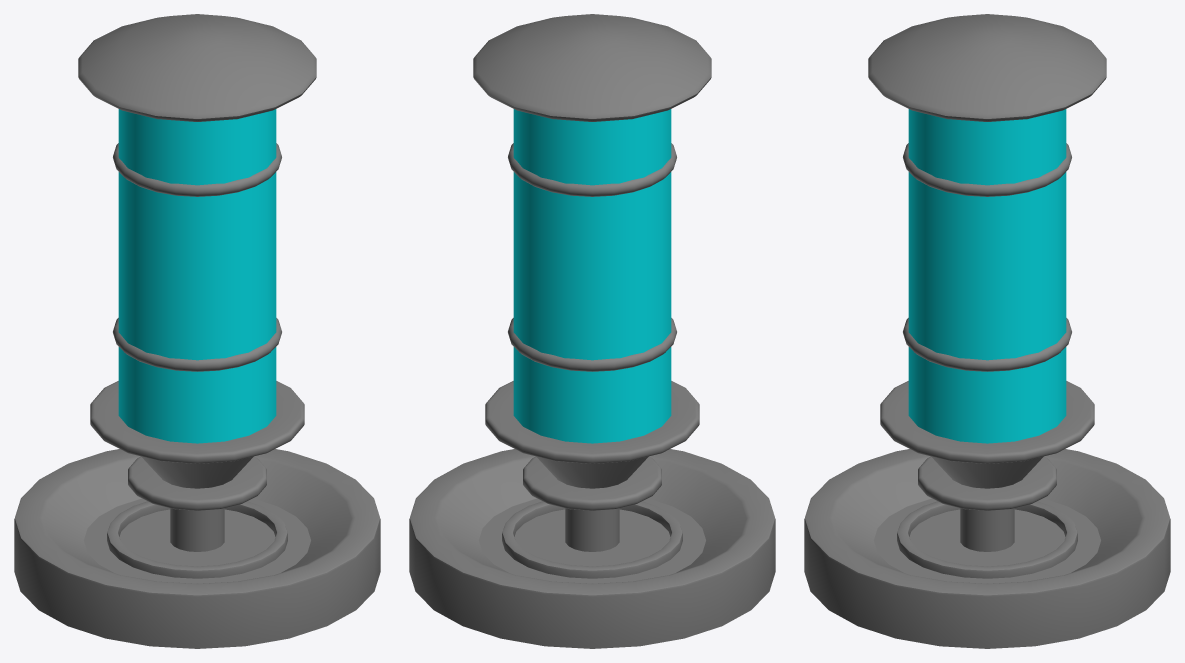
Rendered from Plant_grower_2.fbx.
3 renders of one model, left to right at view 1: azimuth 30°, elevation 25°; view 2: azimuth 150°, elevation 25°; view 3: azimuth 270°, elevation 25°, orthographic.
Parts seen in each view (by area): view 1: Plant_grower_2; view 2: Plant_grower_2; view 3: Plant_grower_2.
Part boxes in pixels (x1,y1,x2,y2): Plant_grower_2: [14, 14, 380, 648]; Plant_grower_2: [409, 14, 775, 648]; Plant_grower_2: [804, 14, 1170, 648].
Bounding box in the file's own units: 1.6 × 1.6 × 2.59.
